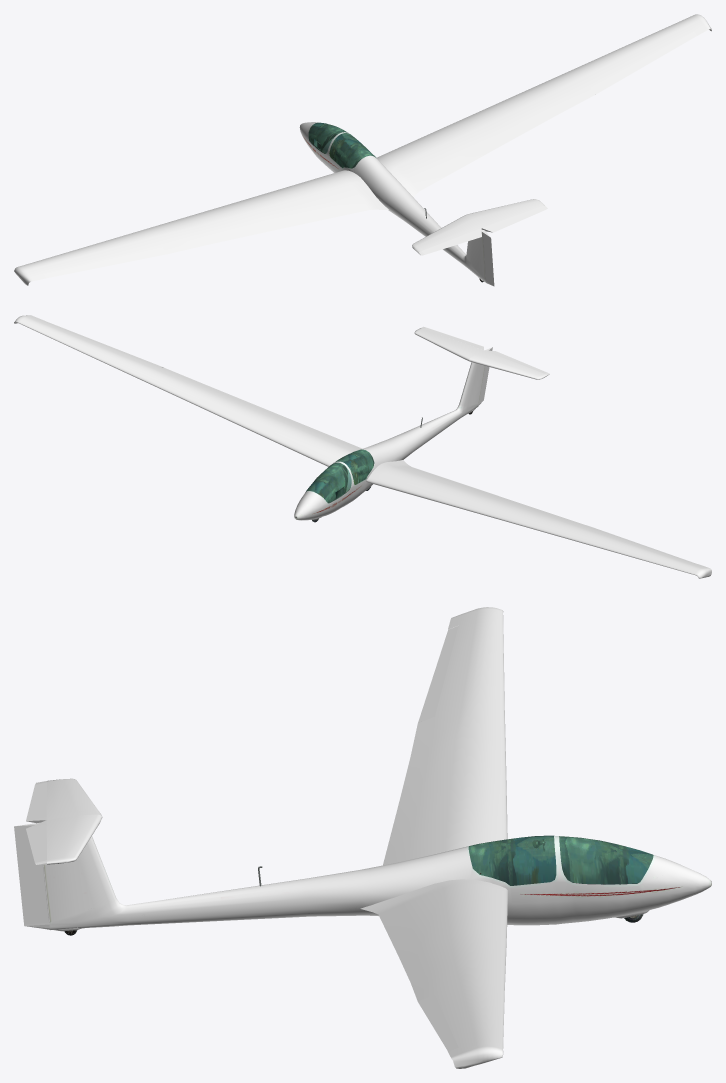
The model's file is ASK_21_stat.gltf.
The picture shows the model from 3 angles, top to bottom: view 1: azimuth 30°, elevation 25°; view 2: azimuth 150°, elevation 25°; view 3: azimuth 270°, elevation 25°; orthographic projection. The views are drawn at different scales.
Visible parts, largest first — view 1: node8, node16, node18; view 2: node8, node16, node18; view 3: node8, node16, node18, node3.
Part boxes in pixels (bbox=[...]): node8: bbox=[14, 14, 711, 285]; node16: bbox=[299, 122, 547, 286]; node18: bbox=[308, 122, 376, 168]; node8: bbox=[14, 315, 711, 578]; node16: bbox=[294, 326, 549, 520]; node18: bbox=[306, 449, 374, 503]; node8: bbox=[360, 607, 508, 1068]; node16: bbox=[14, 778, 711, 931]; node18: bbox=[468, 835, 653, 885]; node3: bbox=[467, 836, 655, 887].
Size of the model in its own units: 16.97 by 2.37 by 8.28.
